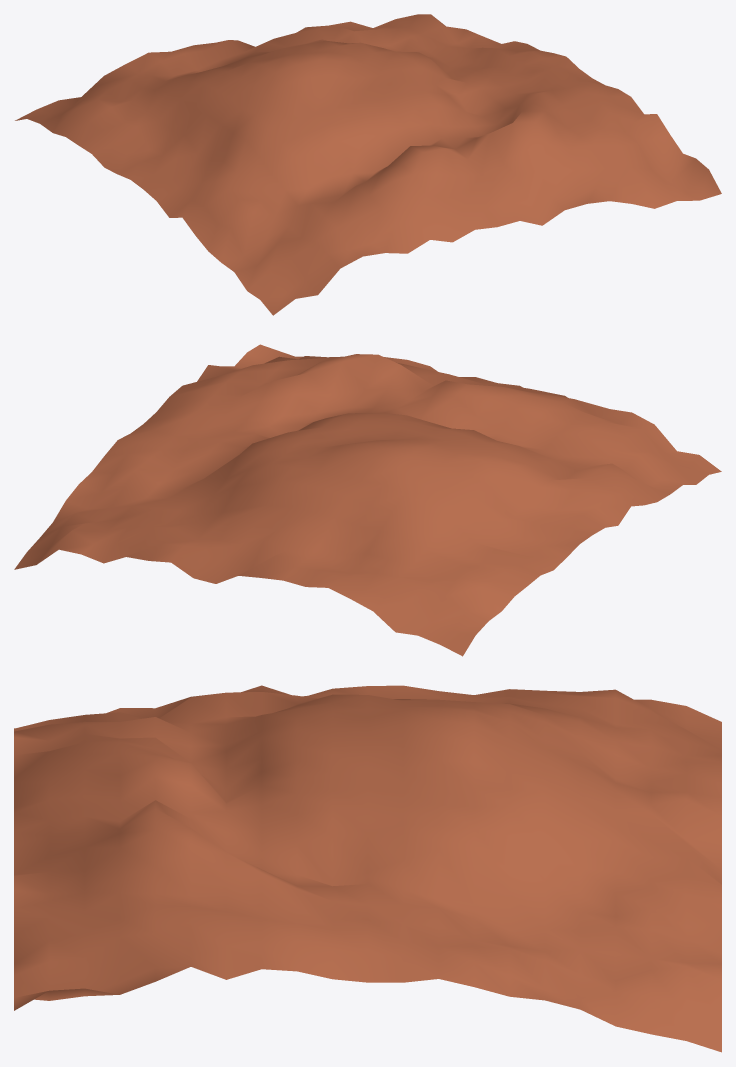
Rendered from DesertIsland1.fbx.
3 views of the same model, one above another, from view 1: azimuth 30°, elevation 25°; view 2: azimuth 150°, elevation 25°; view 3: azimuth 270°, elevation 25° (orthographic). The views are drawn at different scales.
Parts seen in each view (by area): view 1: Island; view 2: Island; view 3: Island.
Boxes of the visible parts, left/top/right/bottom form: Island: left=15, top=14, right=721, bottom=315; Island: left=14, top=344, right=721, bottom=656; Island: left=14, top=685, right=721, bottom=1052.
Bounding box in the file's own units: 1000 × 237 × 1000.
